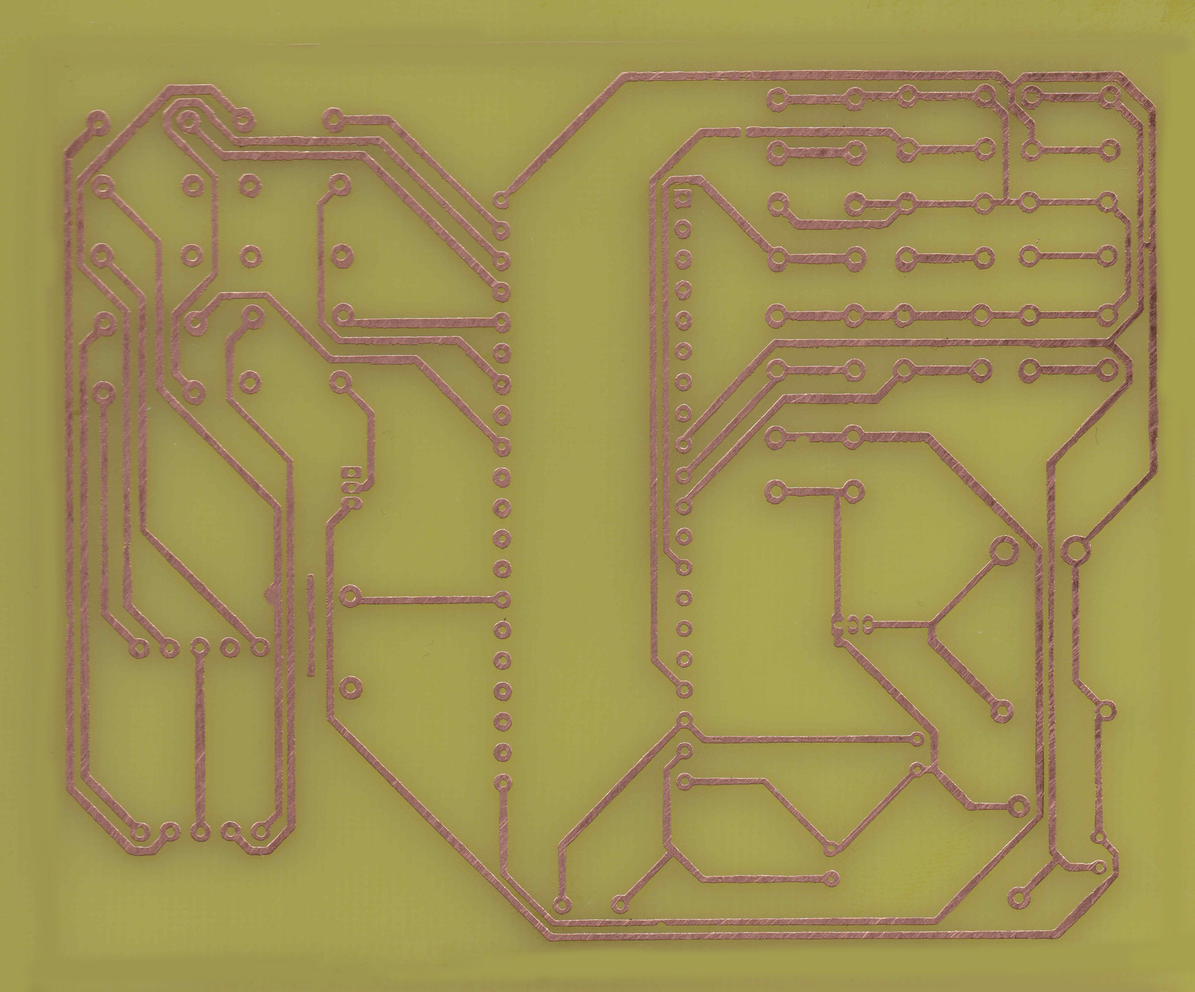missing_hole: (829, 612, 844, 636), (846, 612, 860, 636)
mouse_bite: (794, 433, 813, 444), (655, 917, 670, 927)
open_circuit: (735, 123, 753, 141)
short: (1136, 239, 1156, 252)
spur: (262, 580, 285, 610)
spurious_copper: (305, 572, 318, 681)
